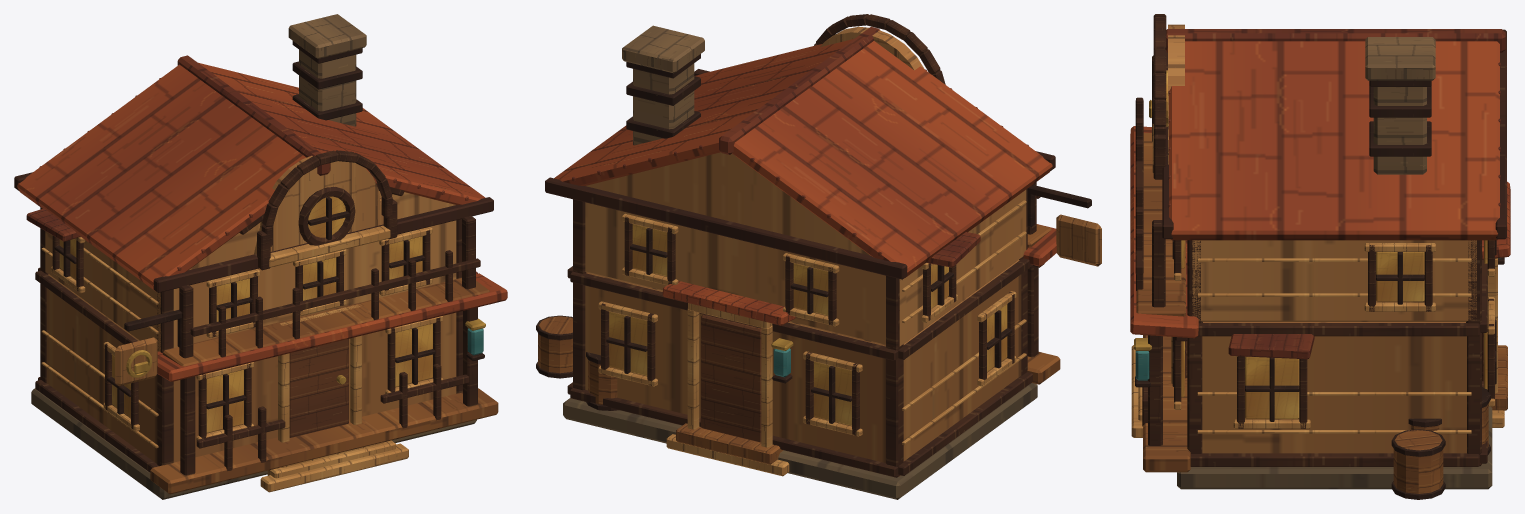
File: old-b-half-timber-comparison.glb
3 renders of one model, left to right at view 1: azimuth 30°, elevation 25°; view 2: azimuth 150°, elevation 25°; view 3: azimuth 270°, elevation 25°, orthographic. The views are drawn at different scales.
Parts seen in each view (by area): view 1: Tavern_2_FullWrap_Painted; view 2: Tavern_2_FullWrap_Painted; view 3: Tavern_2_FullWrap_Painted.
Boxes of the visible parts, box(x1,y1,x2,y2) form: Tavern_2_FullWrap_Painted: box(14, 14, 507, 499); Tavern_2_FullWrap_Painted: box(536, 14, 1101, 499); Tavern_2_FullWrap_Painted: box(1130, 14, 1510, 499).
Size of the model in its own units: 5.13 by 3.96 by 3.36.
Materials: 1 (1 with a texture image).
